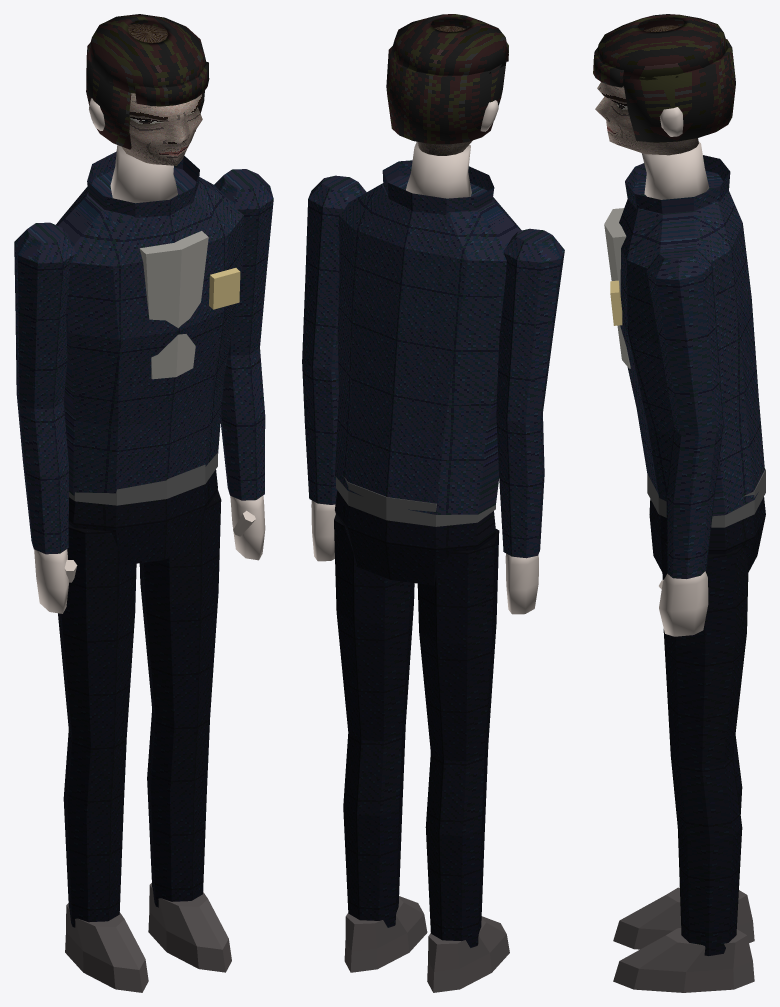
Rendered from char_milan.glb.
The picture shows the model from 3 angles, left to right: view 1: azimuth 30°, elevation 25°; view 2: azimuth 150°, elevation 25°; view 3: azimuth 270°, elevation 25°; orthographic projection.
Parts seen in each view (by area): view 1: JacketTorso, LegL_Pivot_Leg, LegR_Pivot_Leg, ArmSleeve_L, ArmSleeve_R, Pelvis, HairShortCrown, ShirtCollar, LegR_Pivot_Boot, LegL_Pivot_Boot, OrganicHeadMesh, NeckOrganic (+7 smaller); view 2: JacketTorso, LegL_Pivot_Leg, LegR_Pivot_Leg, ArmSleeve_L, ArmSleeve_R, HairShortBack, Pelvis, HairShortCrown, LegR_Pivot_Boot, LegL_Pivot_Boot, Belt, NeckOrganic (+4 smaller); view 3: LegR_Pivot_Leg, JacketTorso, ArmSleeve_R, HairShortBack, HairShortCrown, LegR_Pivot_Boot, LegL_Pivot_Boot, NeckOrganic, Hand_R, Pelvis, OrganicHeadMesh, JacketCollarRim (+5 smaller).
Boxes of the visible parts, bbox=[...] form: JacketTorso: bbox=[56, 167, 244, 495]; LegL_Pivot_Leg: bbox=[58, 524, 136, 927]; LegR_Pivot_Leg: bbox=[139, 489, 221, 907]; ArmSleeve_L: bbox=[14, 222, 74, 554]; ArmSleeve_R: bbox=[214, 169, 273, 500]; Pelvis: bbox=[68, 469, 217, 565]; HairShortCrown: bbox=[88, 14, 206, 93]; ShirtCollar: bbox=[139, 231, 208, 379]; LegR_Pivot_Boot: bbox=[148, 883, 231, 972]; LegL_Pivot_Boot: bbox=[65, 903, 148, 992]; OrganicHeadMesh: bbox=[122, 23, 202, 165]; NeckOrganic: bbox=[110, 145, 177, 203]; JacketTorso: bbox=[335, 175, 521, 514]; LegL_Pivot_Leg: bbox=[417, 529, 499, 947]; LegR_Pivot_Leg: bbox=[334, 514, 414, 927]; ArmSleeve_L: bbox=[496, 228, 564, 558]; ArmSleeve_R: bbox=[302, 175, 366, 504]; HairShortBack: bbox=[386, 46, 505, 144]; Pelvis: bbox=[335, 490, 495, 585]; HairShortCrown: bbox=[390, 14, 508, 75]; LegR_Pivot_Boot: bbox=[344, 896, 427, 972]; LegL_Pivot_Boot: bbox=[427, 916, 509, 992]; Belt: bbox=[336, 477, 495, 526]; NeckOrganic: bbox=[406, 141, 471, 198]; LegR_Pivot_Leg: bbox=[662, 543, 748, 955]; JacketTorso: bbox=[619, 171, 764, 516]; ArmSleeve_R: bbox=[646, 244, 723, 578]; HairShortBack: bbox=[623, 39, 735, 142]; HairShortCrown: bbox=[596, 14, 728, 80]; LegR_Pivot_Boot: bbox=[613, 928, 754, 992]; LegL_Pivot_Boot: bbox=[613, 887, 754, 949]; NeckOrganic: bbox=[641, 141, 709, 199]; Hand_R: bbox=[659, 571, 708, 636]; Pelvis: bbox=[649, 497, 765, 572]; OrganicHeadMesh: bbox=[595, 25, 698, 155]; JacketCollarRim: bbox=[625, 155, 730, 213].
Size of the model in its own units: 0.5013 by 1.78 by 0.2993.
Materials: 9 (4 with a texture image).
